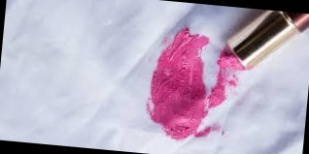lipstick: (138, 23, 227, 142)
